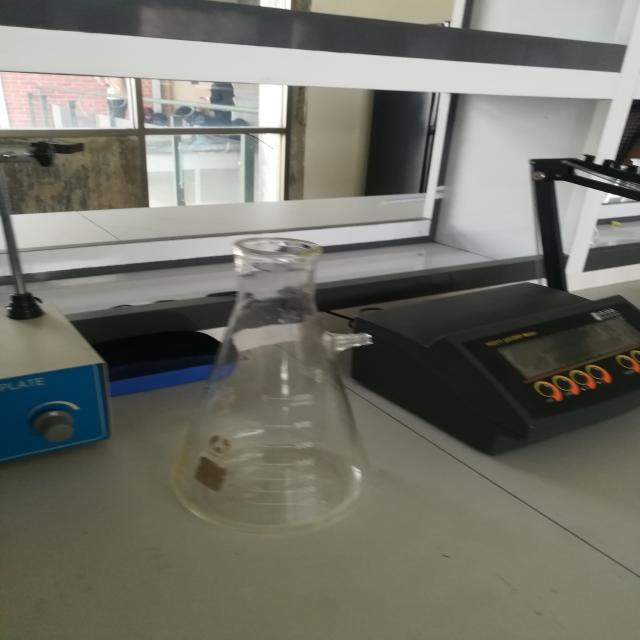Conical_Flask: (126, 213, 414, 552)
